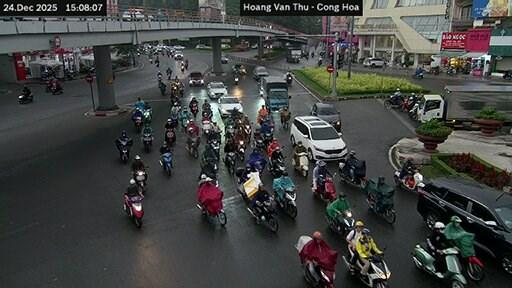motorbike: (412, 243, 466, 287), (444, 228, 483, 279), (364, 179, 394, 223), (354, 253, 390, 287), (197, 183, 226, 225), (246, 197, 277, 230), (300, 257, 332, 287), (272, 178, 297, 216), (339, 157, 364, 188), (195, 203, 226, 225), (326, 210, 354, 234), (122, 196, 143, 226), (312, 175, 336, 201), (393, 171, 422, 190), (268, 148, 284, 176), (201, 160, 217, 185), (115, 139, 131, 162), (294, 234, 313, 253), (291, 153, 306, 176), (246, 154, 265, 171), (159, 153, 172, 175), (185, 136, 198, 157), (140, 133, 153, 152), (400, 94, 416, 109), (253, 134, 265, 152), (224, 153, 234, 174), (384, 95, 403, 106), (134, 170, 146, 187), (207, 140, 217, 160), (236, 139, 245, 161), (409, 103, 419, 120), (163, 130, 175, 144), (44, 77, 56, 91), (202, 117, 211, 135), (262, 131, 272, 145), (169, 112, 178, 127), (64, 68, 76, 79), (19, 93, 32, 103), (342, 256, 352, 268), (224, 126, 233, 139), (502, 68, 511, 79), (191, 103, 198, 117), (52, 81, 60, 93), (243, 129, 250, 142), (281, 117, 288, 129), (144, 108, 150, 122), (445, 67, 455, 75), (160, 81, 166, 94), (135, 116, 140, 131), (285, 73, 291, 85), (428, 66, 438, 73), (316, 58, 322, 66), (413, 72, 422, 77), (157, 73, 162, 81), (233, 76, 237, 84), (348, 248, 352, 256), (179, 66, 184, 72), (243, 125, 250, 129), (149, 58, 152, 63)
